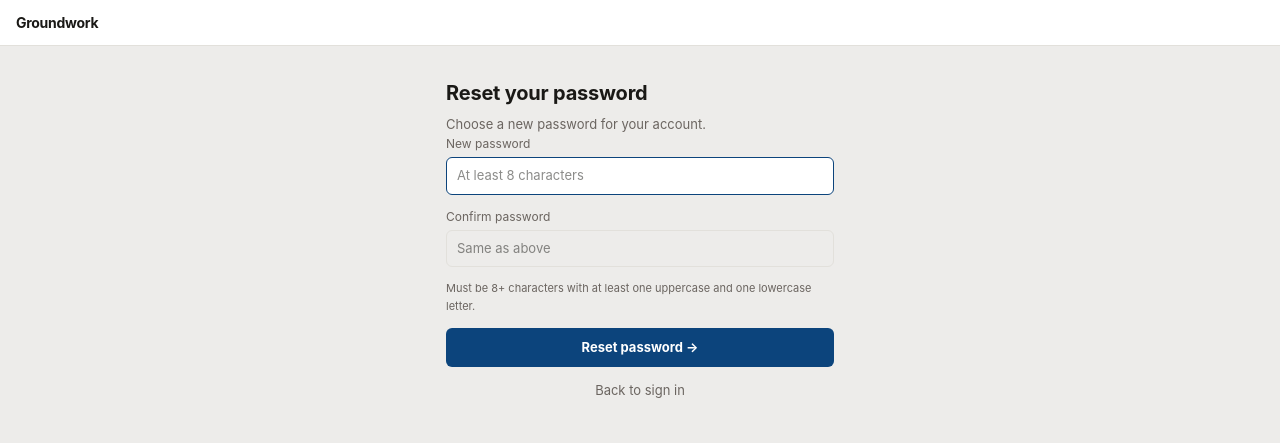
resetting a password › and a failure is shown, not hidden behind a success screen
Type "Passw0rdish" into the password field labelled "New password" at point(640, 176), box top-left (446, 157), bottom-right (834, 195)
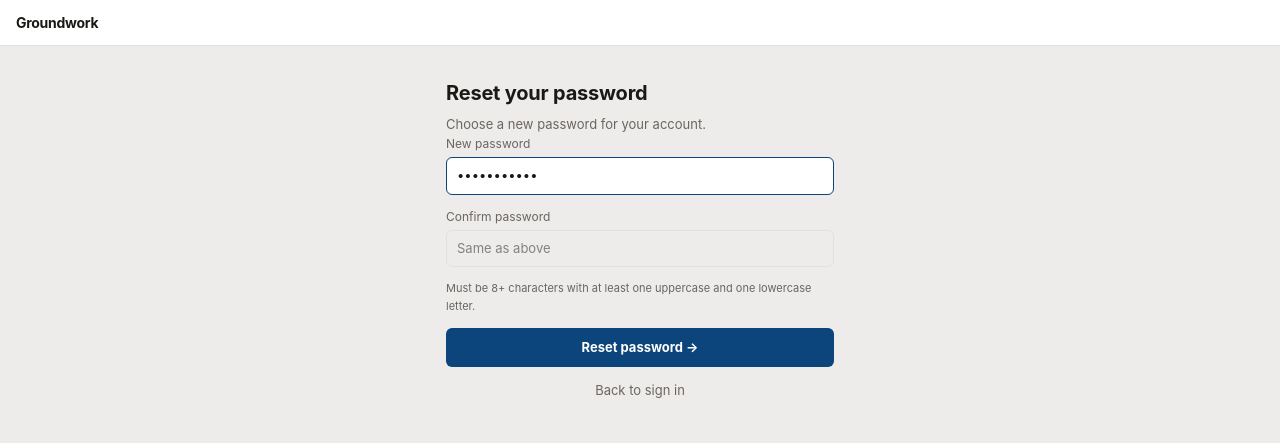
Type "Passw0rdish" into the password field labelled "Confirm password" at point(640, 249), box top-left (446, 230), bottom-right (834, 267)
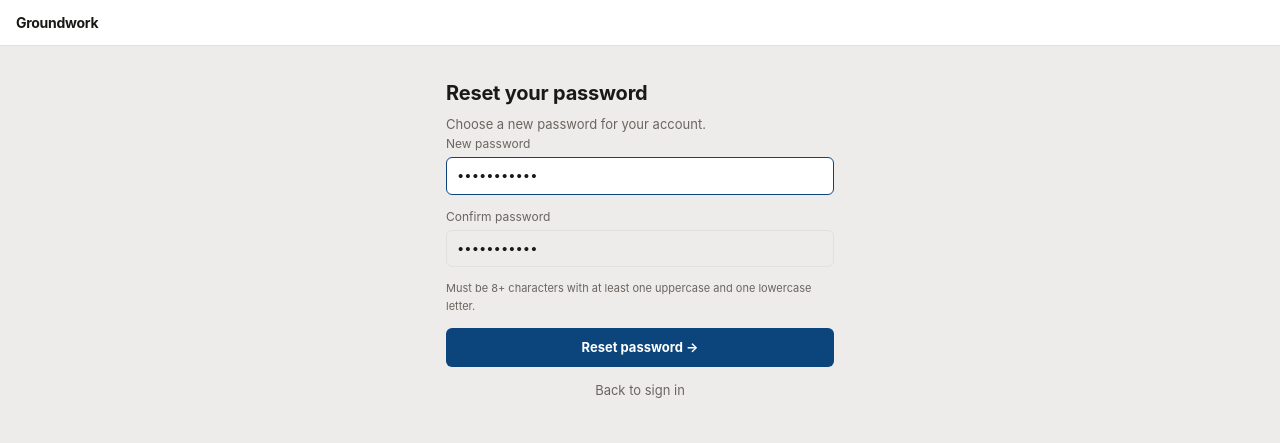
Click the button "Reset password →" at point(640, 347), box top-left (446, 328), bottom-right (834, 367)
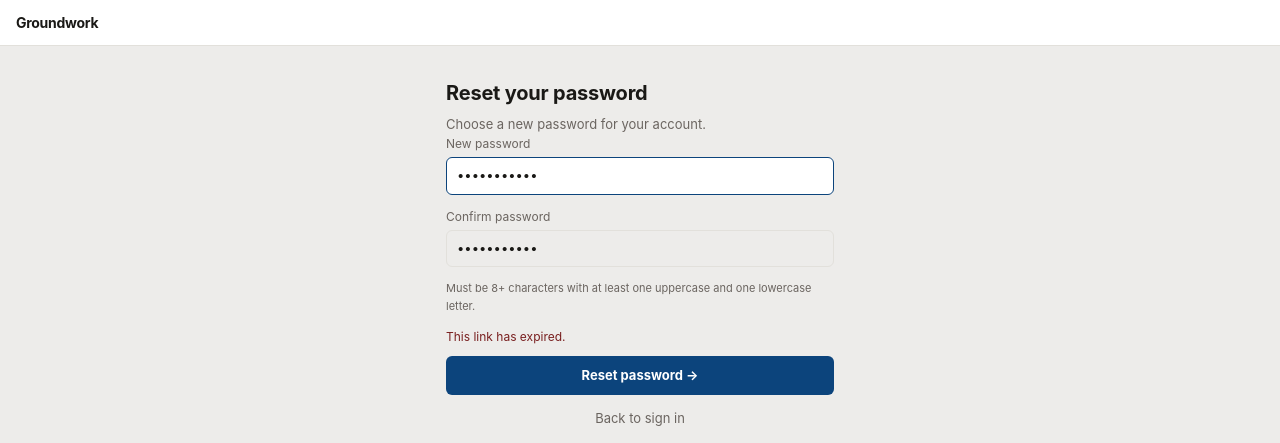
Expected: the button "Reset password →" is shown, top-left (446, 356), bottom-right (834, 395)
Result: the text "This link has expired." is shown at top-left (446, 329), bottom-right (566, 344)
